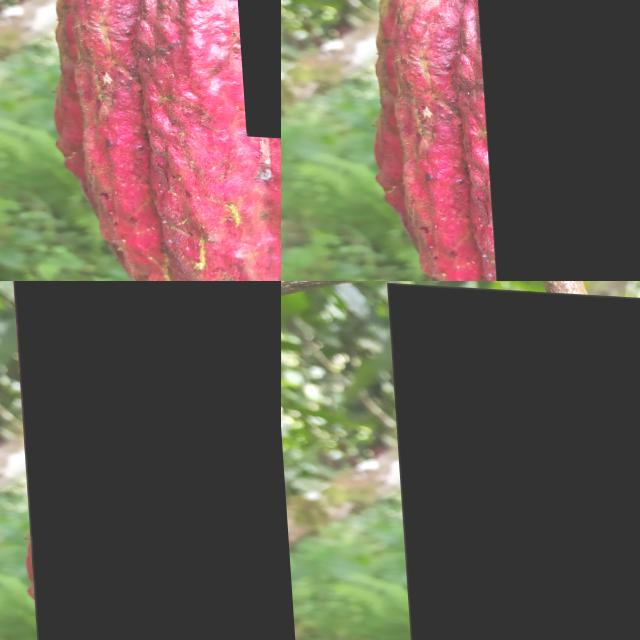Fitoftora: (468, 0, 640, 281)
Monilia: (7, 281, 281, 640)
Sana: (385, 281, 640, 640)
